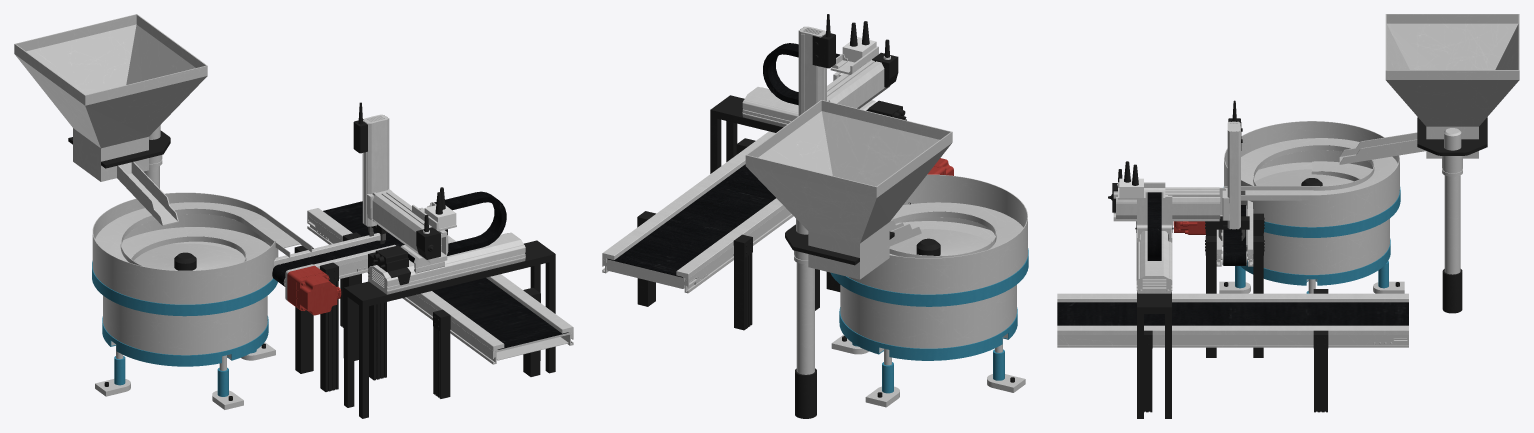
Rendered from Pick_and_Place_Station_Box.glb.
3 views of the same model, side by side, from view 1: azimuth 30°, elevation 25°; view 2: azimuth 150°, elevation 25°; view 3: azimuth 270°, elevation 25° (orthographic). The views are drawn at different scales.
Parts seen in each view (by area): view 1: color-12[21].001, color-12[20].001, color-12[5].001, color-12[27].001, color-8.002, color-13[2], color-9.002, color-5[5], color-12.003, color.003, color-11[1], color-12[6].001 (+18 smaller); view 2: color-12[21].001, color-12[20].001, color-12[5].001, color-13[2], color-12[27].001, color-12.003, color-13[3], color-12[6].001, color-12[25].001, color-8.002, color-5[5], color.003 (+16 smaller); view 3: color-12[21].001, color-12[20].001, color-13[2], color-12[27].001, color-12[5].001, color-13[5], color-13[3], color-13[4], color-5[5], color-8.002, color-9.002, color-12[25].001 (+13 smaller).
Boxes of the visible parts, x1,y1,x2,y2 form: color-12[21].001: (14, 14, 207, 225); color-12[20].001: (92, 192, 278, 304); color-12[5].001: (103, 295, 267, 358); color-12[27].001: (95, 202, 312, 266); color-8.002: (344, 240, 555, 418); color-13[2]: (323, 201, 568, 349); color-9.002: (368, 232, 525, 294); color-5[5]: (366, 189, 448, 263); color-12.003: (92, 261, 277, 316); color.003: (362, 114, 389, 226); color-11[1]: (287, 265, 341, 315); color-12[6].001: (102, 316, 268, 366); color-12[21].001: (745, 100, 952, 279); color-12[20].001: (847, 174, 1027, 294); color-12[5].001: (840, 285, 1016, 352); color-13[2]: (607, 164, 775, 277); color-12[27].001: (889, 202, 1023, 258); color-12.003: (830, 248, 1028, 306); color-13[3]: (602, 131, 775, 259); color-12[6].001: (839, 307, 1017, 360); color-12[25].001: (796, 262, 814, 374); color-8.002: (710, 95, 782, 173); color-5[5]: (827, 59, 890, 108); color.003: (798, 26, 826, 115); color-12[21].001: (1339, 14, 1519, 164); color-12[20].001: (1224, 121, 1399, 227); color-13[2]: (1057, 302, 1408, 325); color-12[27].001: (1224, 138, 1397, 200); color-12[5].001: (1246, 218, 1389, 281); color-13[5]: (1057, 335, 1382, 347); color-13[3]: (1057, 325, 1408, 334); color-13[4]: (1057, 293, 1408, 302); color-5[5]: (1113, 187, 1229, 221); color-8.002: (1137, 292, 1171, 418); color-9.002: (1136, 224, 1172, 293); color-12[25].001: (1444, 175, 1460, 274).
Bounding box in the file's own units: 1.13 × 0.79 × 1.31.
Materials: 7 (7 with a texture image).
